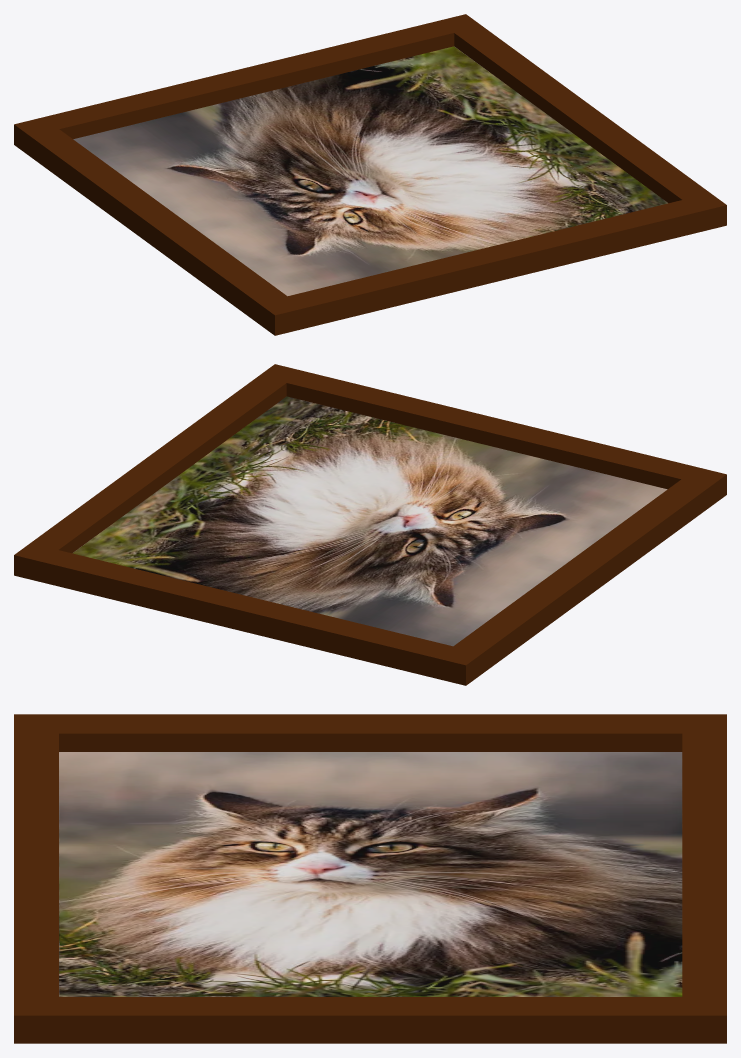
The model's file is CATastropheMajesticBoyPictureWithFrame.fbx.
3 views of the same model, one above another, from view 1: azimuth 30°, elevation 25°; view 2: azimuth 150°, elevation 25°; view 3: azimuth 270°, elevation 25° (orthographic). The views are drawn at different scales.
Parts seen in each view (by area): view 1: Cube; view 2: Cube; view 3: Cube.
Boxes of the visible parts, x1,y1,x2,y2 form: Cube: (14, 14, 726, 335); Cube: (14, 364, 726, 685); Cube: (14, 714, 726, 1043).
Size of the model in its own units: 400 by 17.33 by 400.
2 materials, 1 textured.
